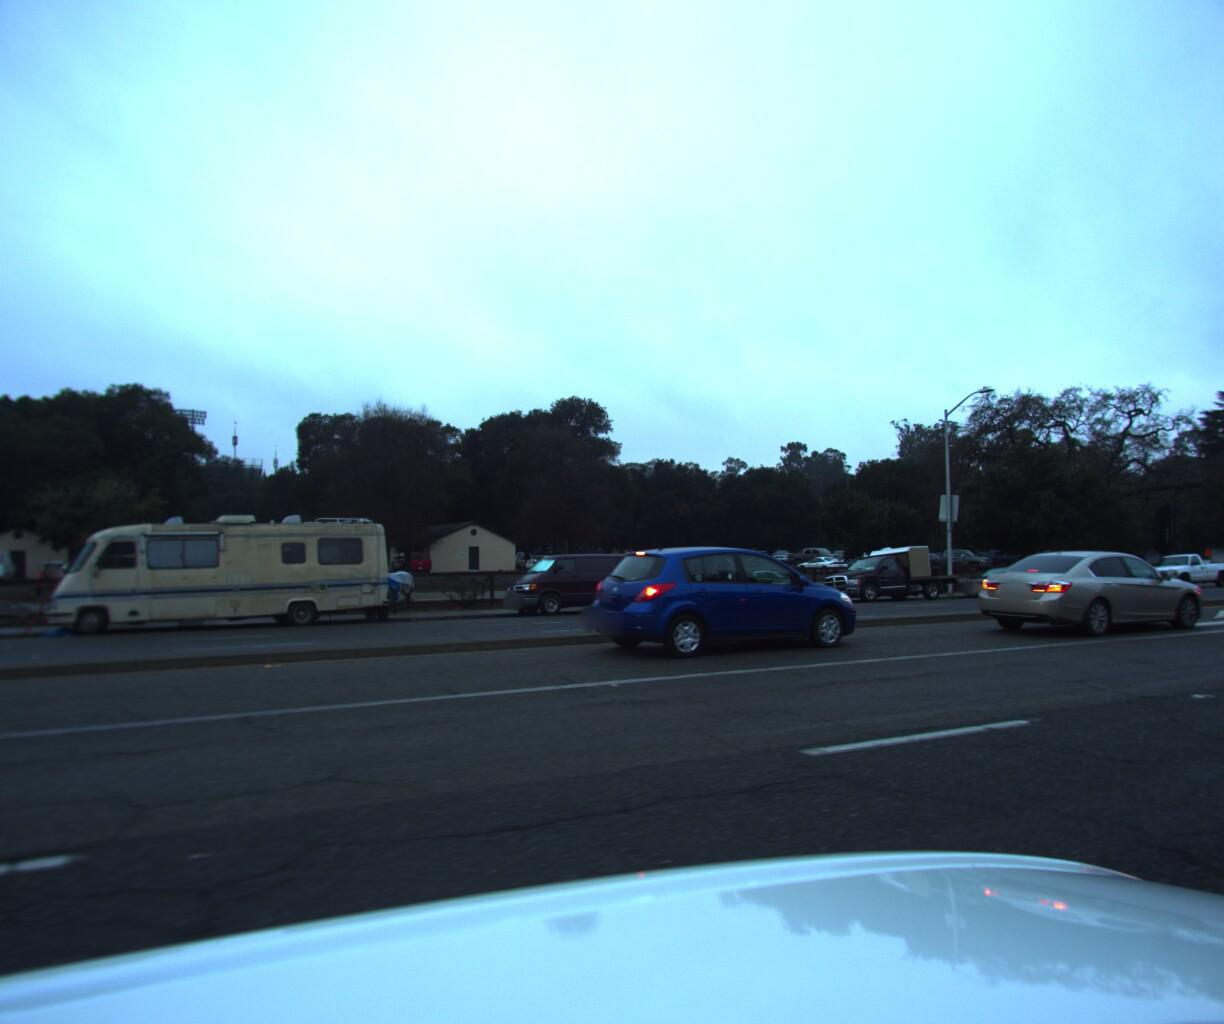car: (578, 540, 867, 657), (954, 536, 1219, 637), (490, 545, 657, 616), (807, 537, 959, 602), (948, 556, 1057, 596), (1126, 544, 1224, 588), (0, 562, 7, 655), (1221, 531, 1224, 613)
other_vehicle: (19, 500, 426, 642)
